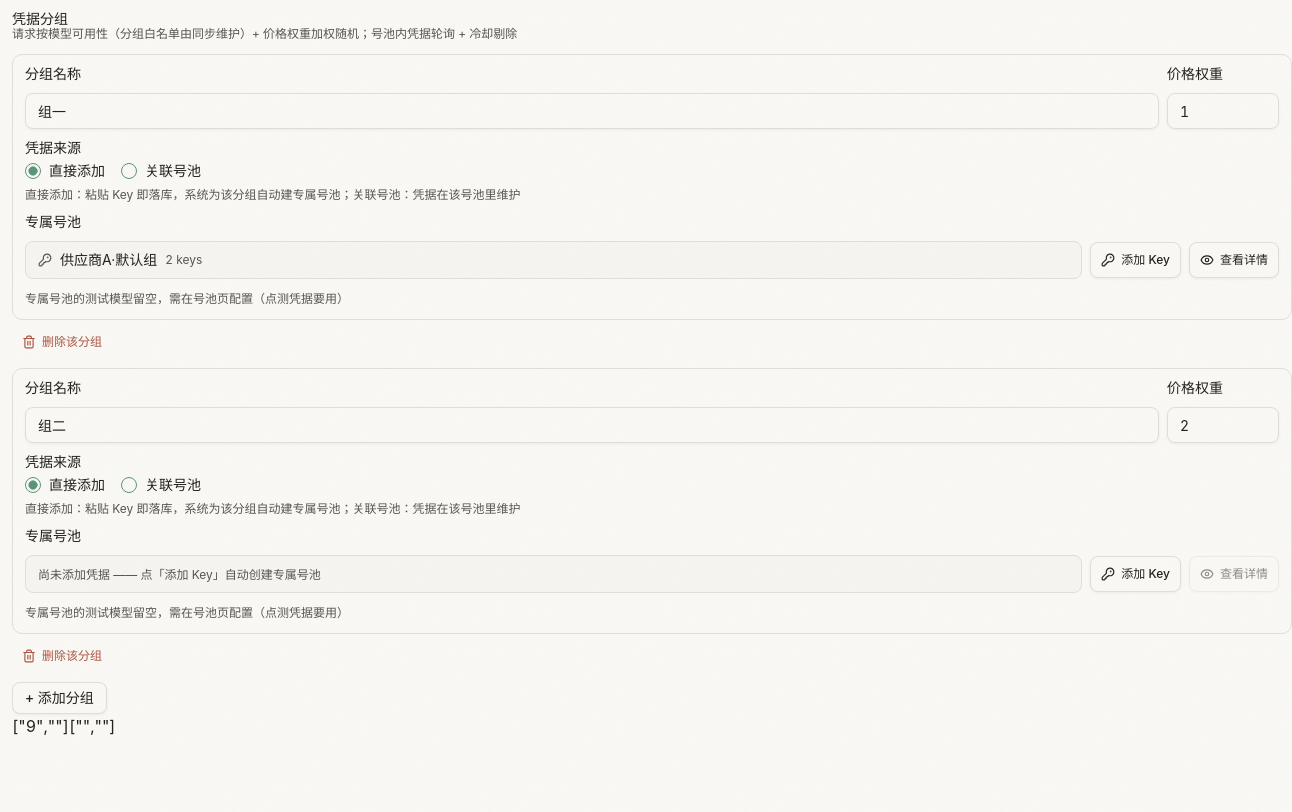
Scenario: 凭据分组区 - 取 Key 模式（直接添加 / 关联号池） › link 模式下绑的是专属池：下拉显示占位、不列专属池（专属池不是可关联项）
The image size is (1292, 812).
Click the 2nd radio button named "关联号池".
click(129, 171)  # box x1=121 y1=163 x2=137 y2=179
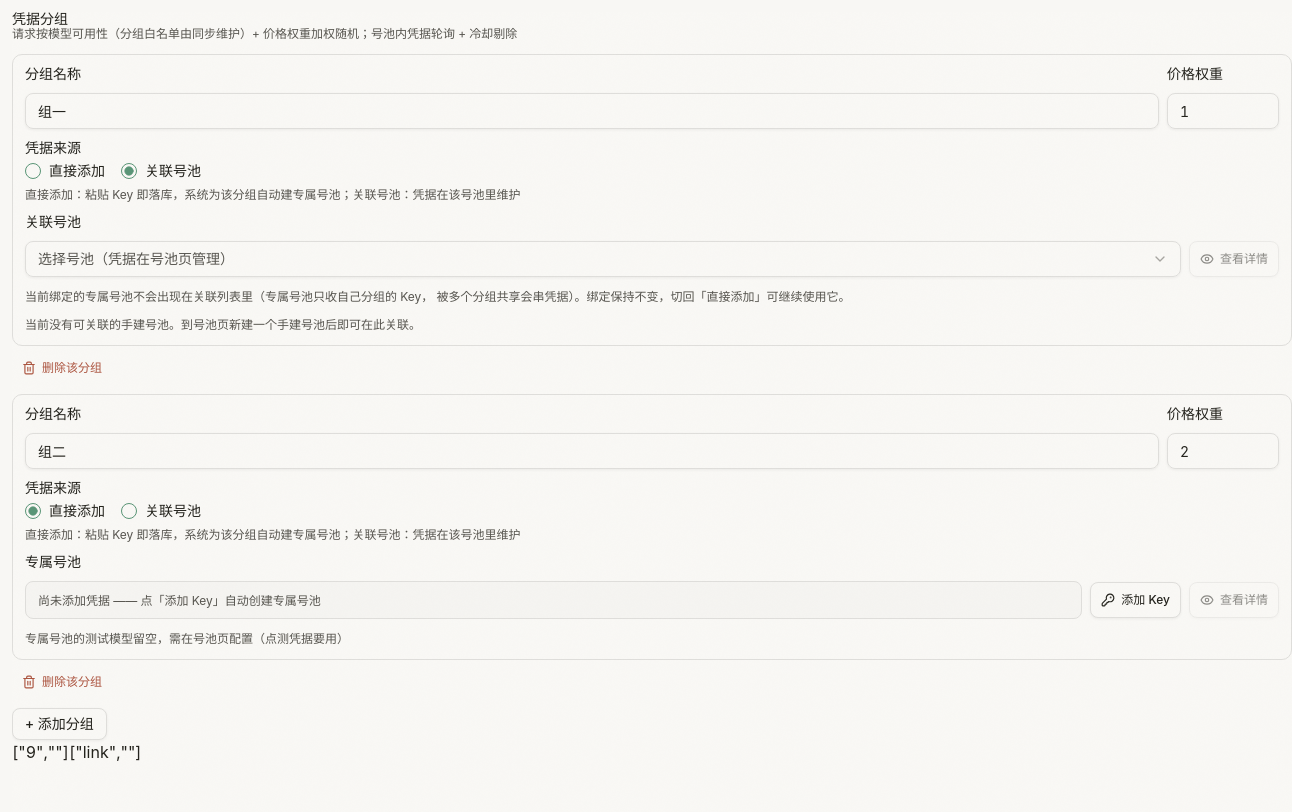
Now the text "选择号池（凭据在号池页管理）" is shown, box x1=38 y1=249 x2=234 y2=269
Now the text "供应商A·默认组" is gone
Now the text "专属号池不会出现在关联列表里" is shown, box x1=25 y1=289 x2=850 y2=304
